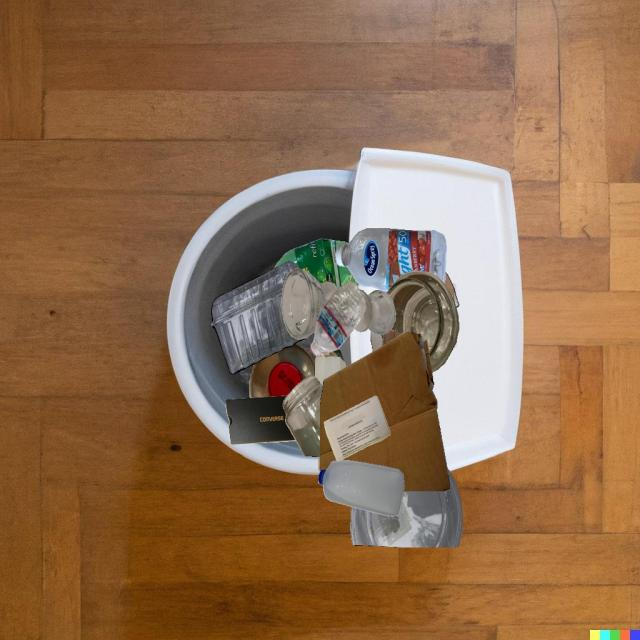biowaste: (319, 457, 320, 473)
cardboard: (320, 332, 450, 491), (225, 396, 296, 444), (314, 356, 346, 385), (382, 329, 403, 346)
glass: (387, 270, 459, 372), (282, 268, 338, 339), (282, 376, 323, 457), (354, 290, 396, 335)
paper: (373, 272, 445, 334), (324, 395, 390, 461)
plastic: (211, 261, 307, 374), (350, 467, 463, 548), (335, 228, 446, 291), (318, 460, 405, 517), (274, 238, 360, 289), (311, 282, 366, 355), (249, 344, 315, 398), (327, 349, 344, 362), (310, 346, 330, 357)
